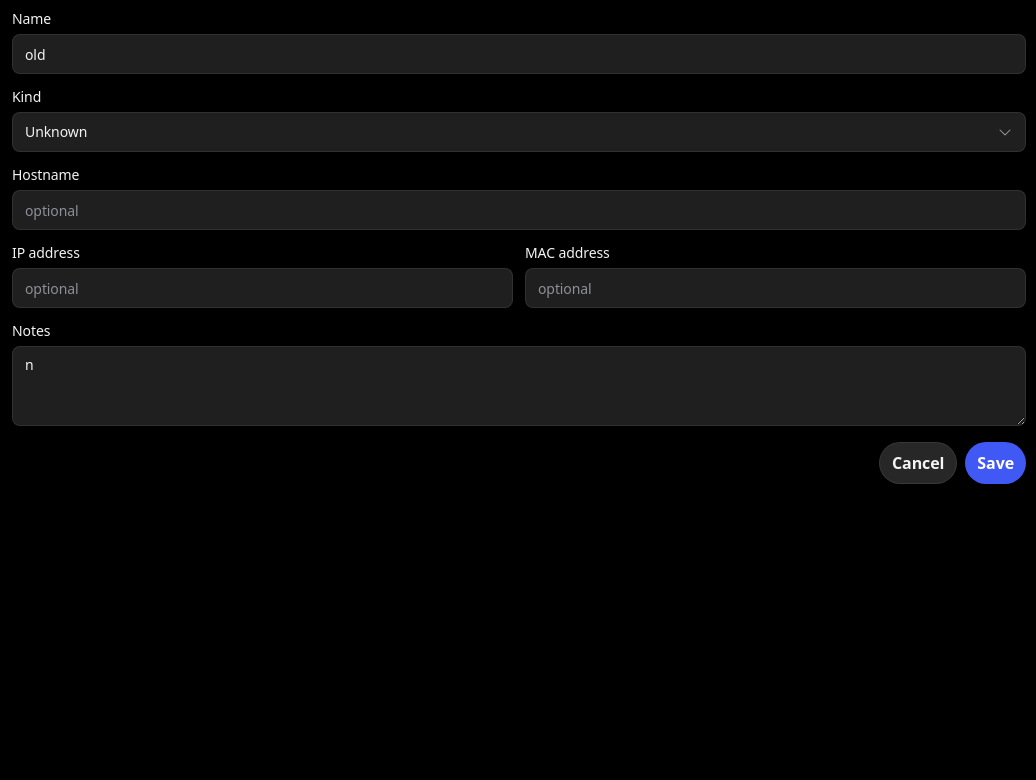
Test case: DeviceForm › says the address is taken when creating a duplicate
Click the button "Save": (996, 463) [965,442,1026,484]
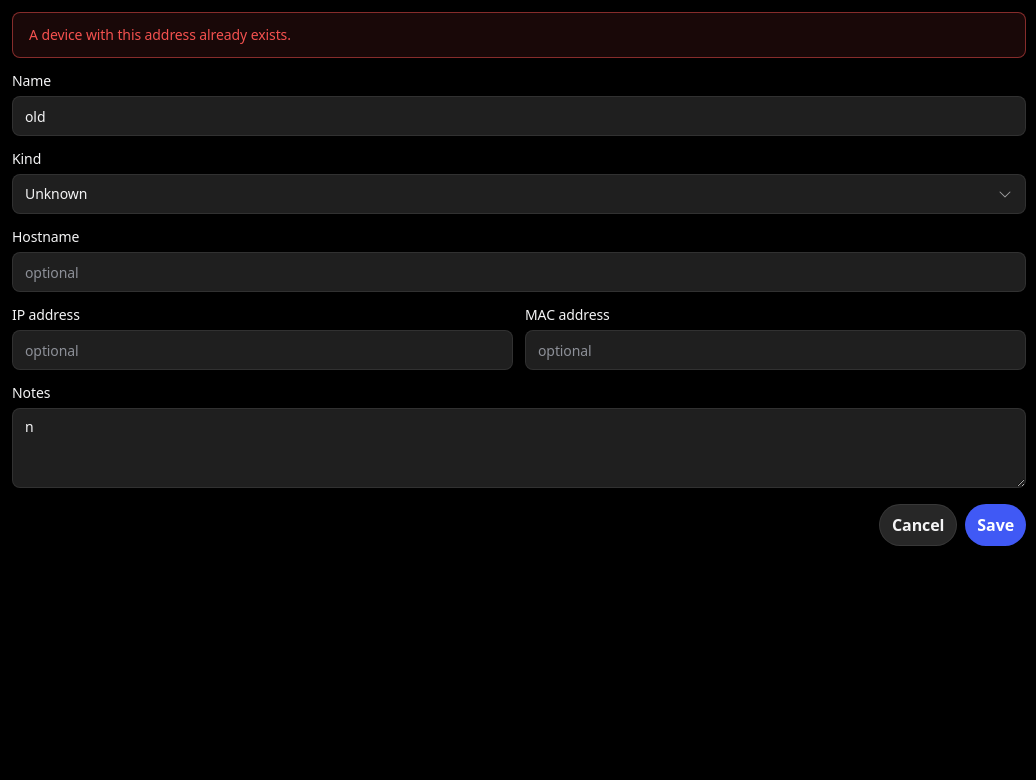
Check: the message shows "already exists", box [29,25,291,44]
